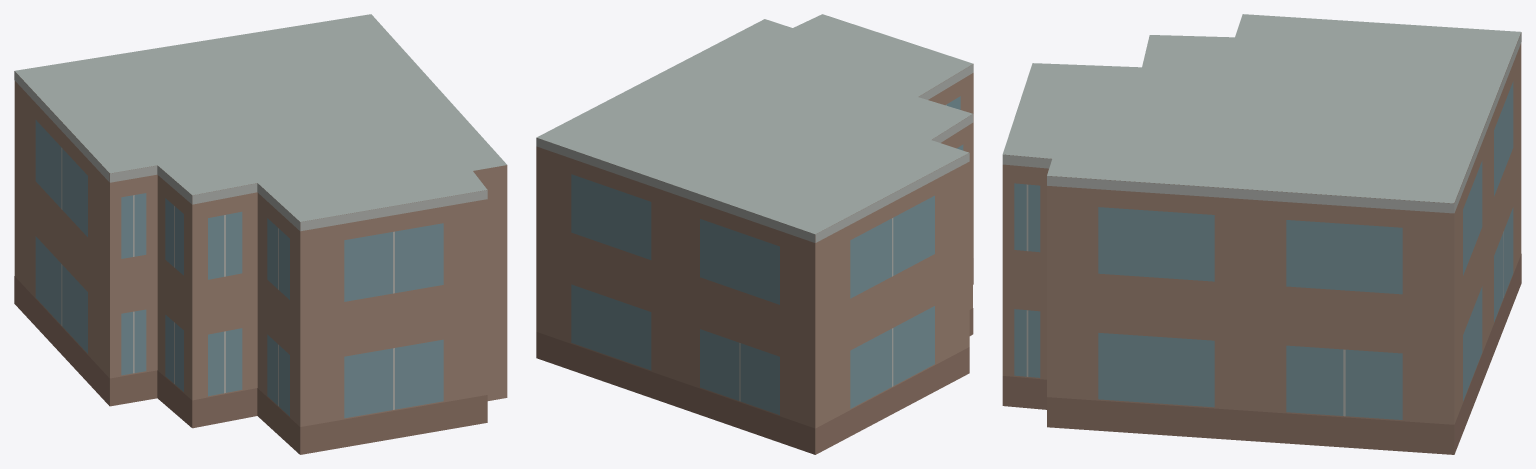
The model's file is survey-upis-33030041.glb.
3 renders of one model, left to right at view 1: azimuth 30°, elevation 25°; view 2: azimuth 150°, elevation 25°; view 3: azimuth 270°, elevation 25°, orthographic. The views are drawn at different scales.
Parts seen in each view (by area): view 1: survey-upis-33030041.tmp; view 2: survey-upis-33030041.tmp; view 3: survey-upis-33030041.tmp.
Boxes of the visible parts, x1,y1,x2,y2 form: survey-upis-33030041.tmp: (14,14,507,454); survey-upis-33030041.tmp: (536,14,973,454); survey-upis-33030041.tmp: (1002,14,1521,454).
Size of the model in its own units: 9.87 by 6.1 by 11.42.
